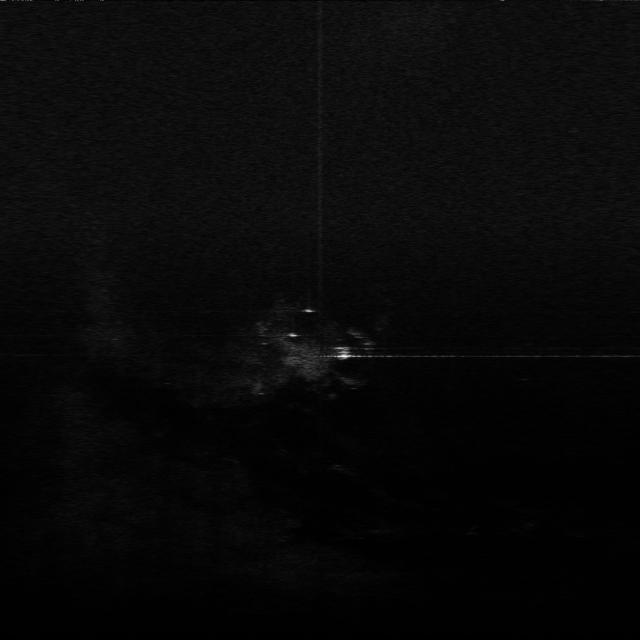rov: (332, 344, 353, 362)
